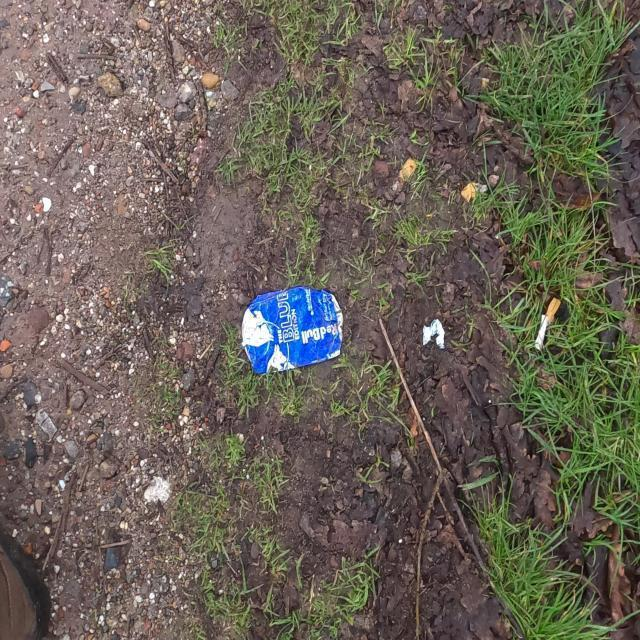Can-Metal: (240, 286, 346, 378)
Plastic: (422, 318, 446, 350)
